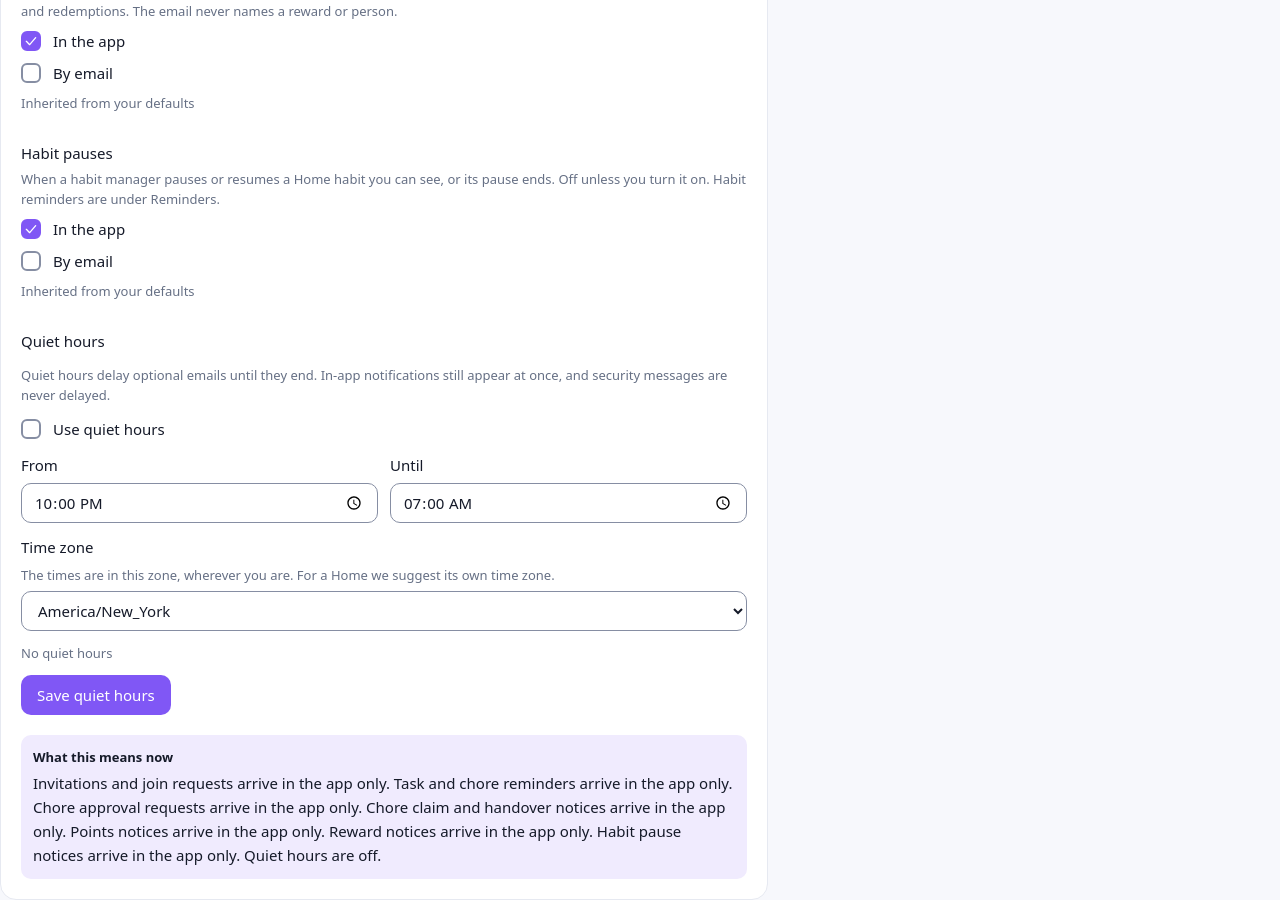
Test: quiet hours › refuses a window that starts and ends together, before sending anything
The width and height of the screenshot is (1280, 900).
(page scrolled)
Replace the text in the time field labelled "Until" with "22:00" at (568, 503), box [390,483,747,523]
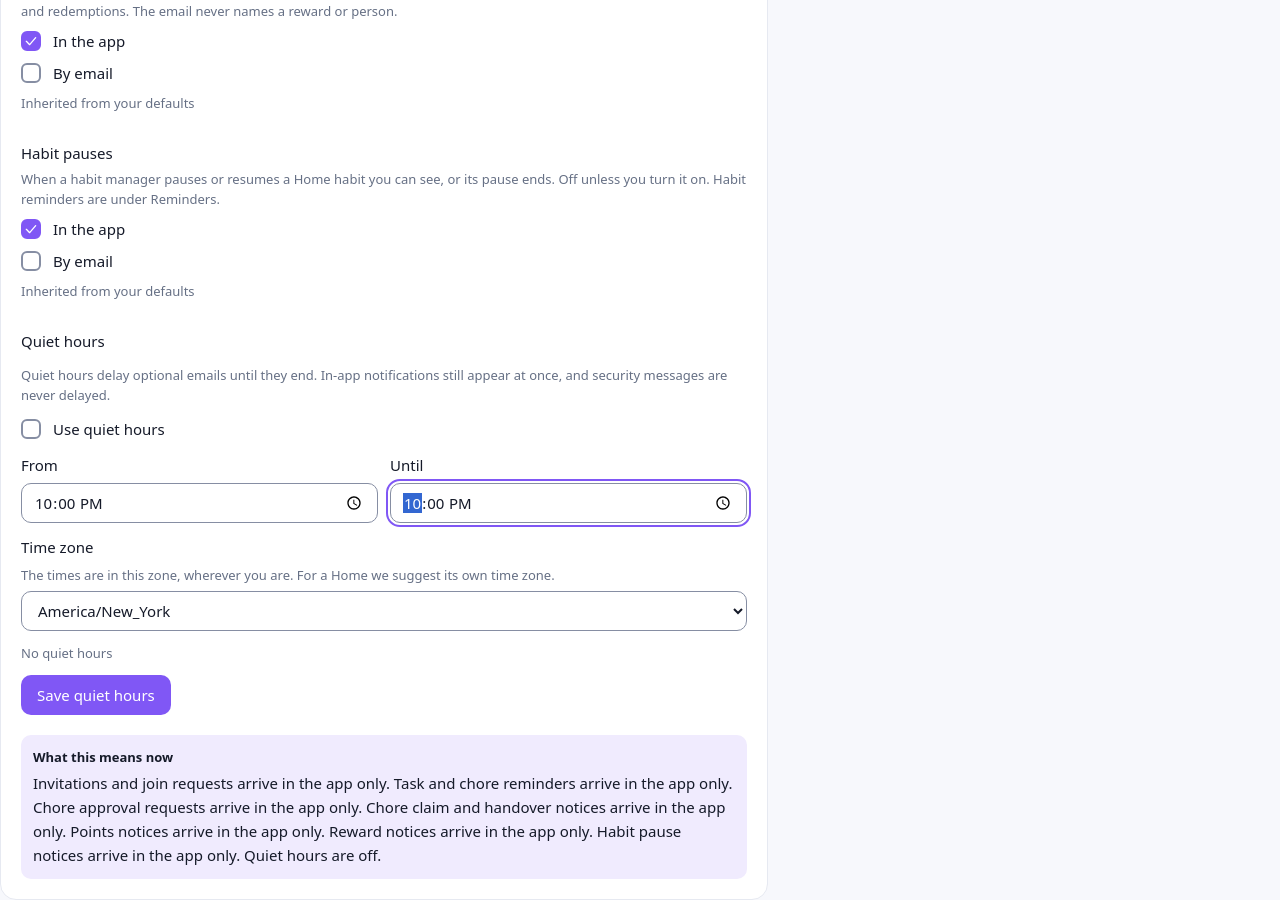
Click the button "Save quiet hours" at (96, 695), box [21,675,171,715]
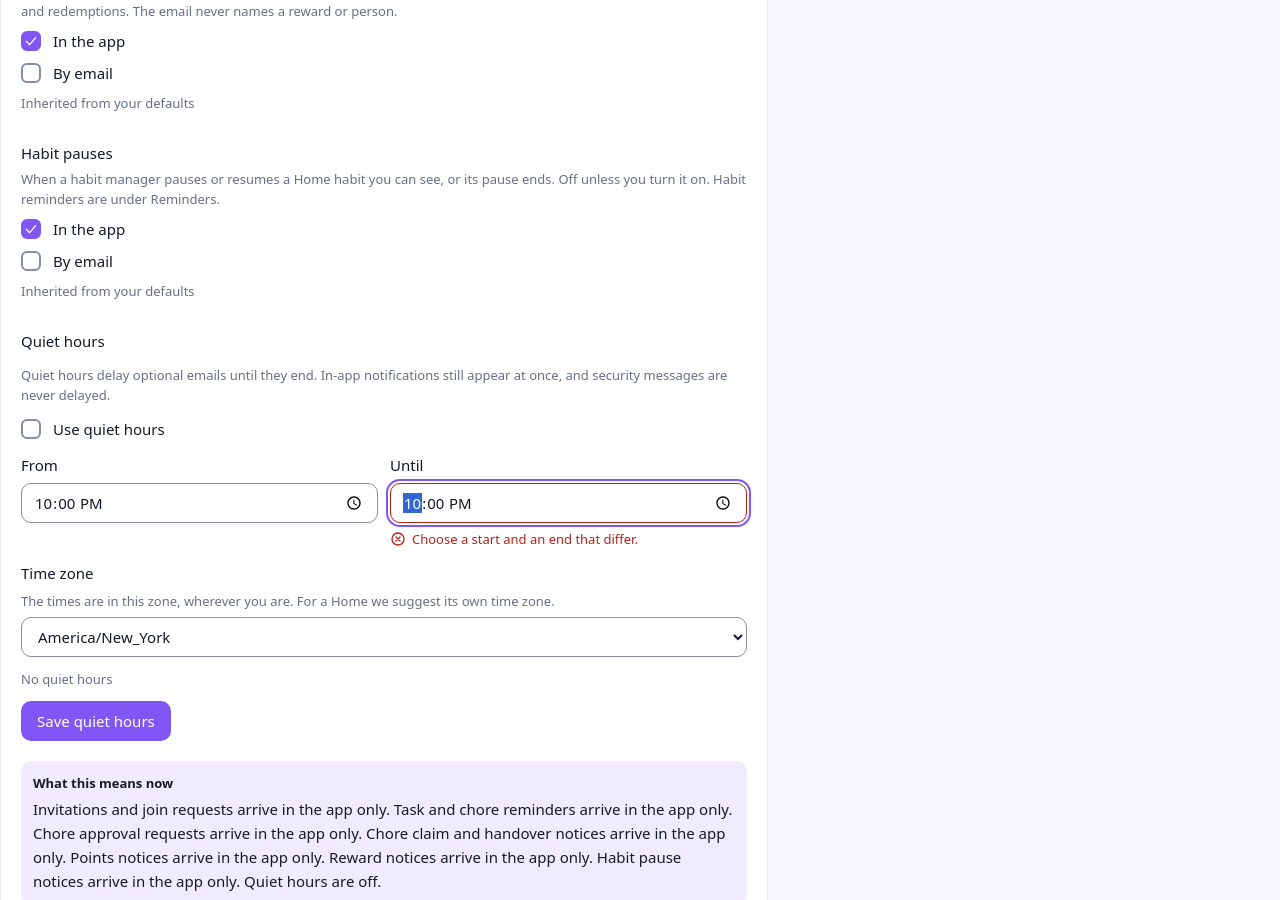
Now the text "Choose a start and an end that differ." is shown, box [412,529,638,549]
